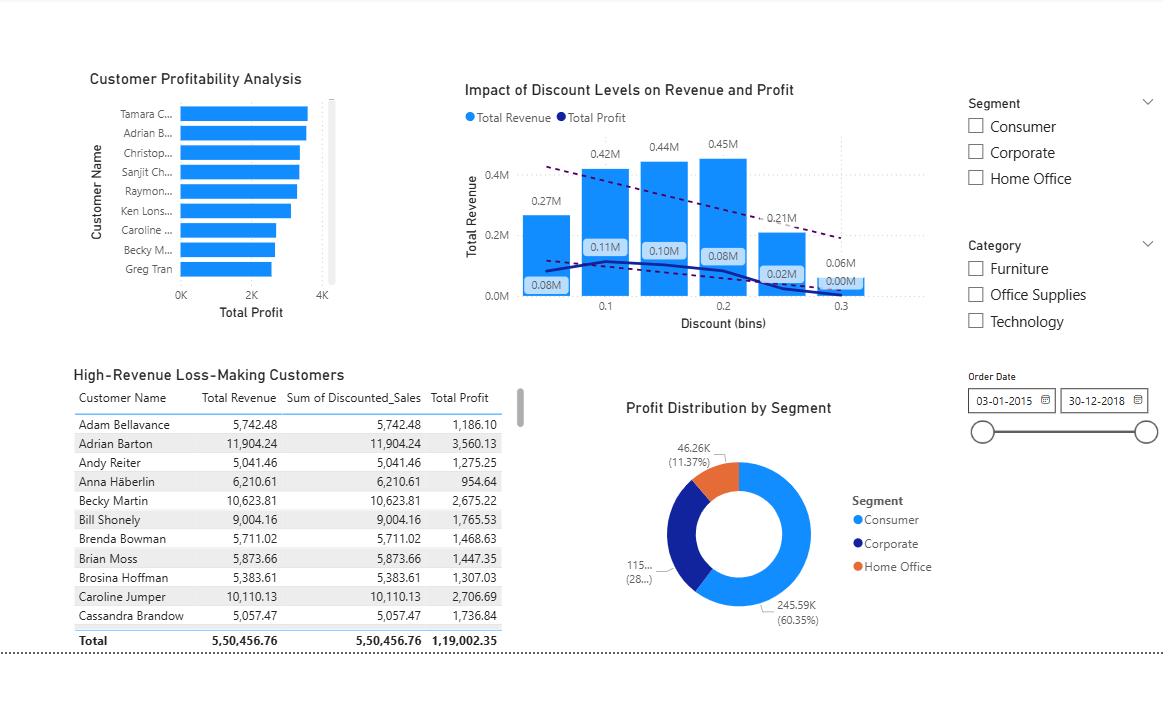

The dashboard page shown, as its layout file describes it:
{"tool":"powerbi","page":{"name":"Page 1","canvas":[1280,720],"ordinal":0},"visuals":[{"type":"clusteredBarChart","title":"Customer Profitability Analysis","fields":{"Category":["processed_sales.Customer Name"],"Y":["processed_sales.Total Profit"]},"box":[94.7,79.6,279.9,279.9],"z":0},{"type":"tableEx","title":"High-Revenue Loss-Making Customers","fields":{"Values":["processed_sales.Customer Name","processed_sales.Total Revenue","Sum(processed_sales.Discounted_Sales)","processed_sales.Total Profit"]},"box":[76.8,404.8,505,315.6],"z":1000},{"type":"donutChart","title":"Profit Distribution by Segment","fields":{"Category":["processed_sales.Segment"],"Y":["processed_sales.Total Profit"]},"box":[683.4,440.5,355.4,279.9],"z":2000},{"type":"slicer","fields":{"Values":["processed_sales.Category"]},"box":[1051.1,259.3,229.2,123.5],"z":3000},{"type":"slicer","fields":{"Values":["processed_sales.Segment"]},"box":[1051.1,102.9,229.2,138.6],"z":4000},{"type":"slicer","fields":{"Values":["processed_sales.Order Date"]},"box":[1051.1,404.8,229.2,107],"z":5000},{"type":"lineClusteredColumnComboChart","title":"Impact of Discount Levels on Revenue and Profit","fields":{"Category":["processed_sales.Discount (bins)"],"Y":["processed_sales.Total Revenue"],"Y2":["processed_sales.Total Profit"]},"box":[506.3,91.9,518.7,279.9],"z":6000}]}

Visuals, with their boxes on the page's 1280x720 design canvas (x1, y1, x2, y2). These are canvas units, not pixel positions in the 1163x720 screenshot, which may show the page scaled, cropped or inside an application window:
"Customer Profitability Analysis" clusteredBarChart: 95,80,375,360
"High-Revenue Loss-Making Customers" tableEx: 77,405,582,720
"Profit Distribution by Segment" donutChart: 683,440,1039,720
slicer - processed_sales.Category: 1051,259,1280,383
slicer - processed_sales.Segment: 1051,103,1280,242
slicer - processed_sales.Order Date: 1051,405,1280,512
"Impact of Discount Levels on Revenue and Profit" lineClusteredColumnComboChart: 506,92,1025,372
